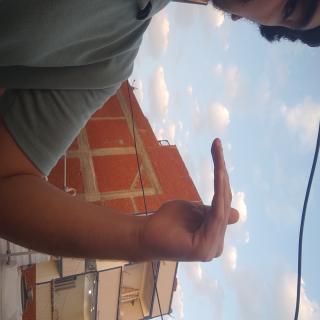KHAA: (99, 102, 209, 247)
